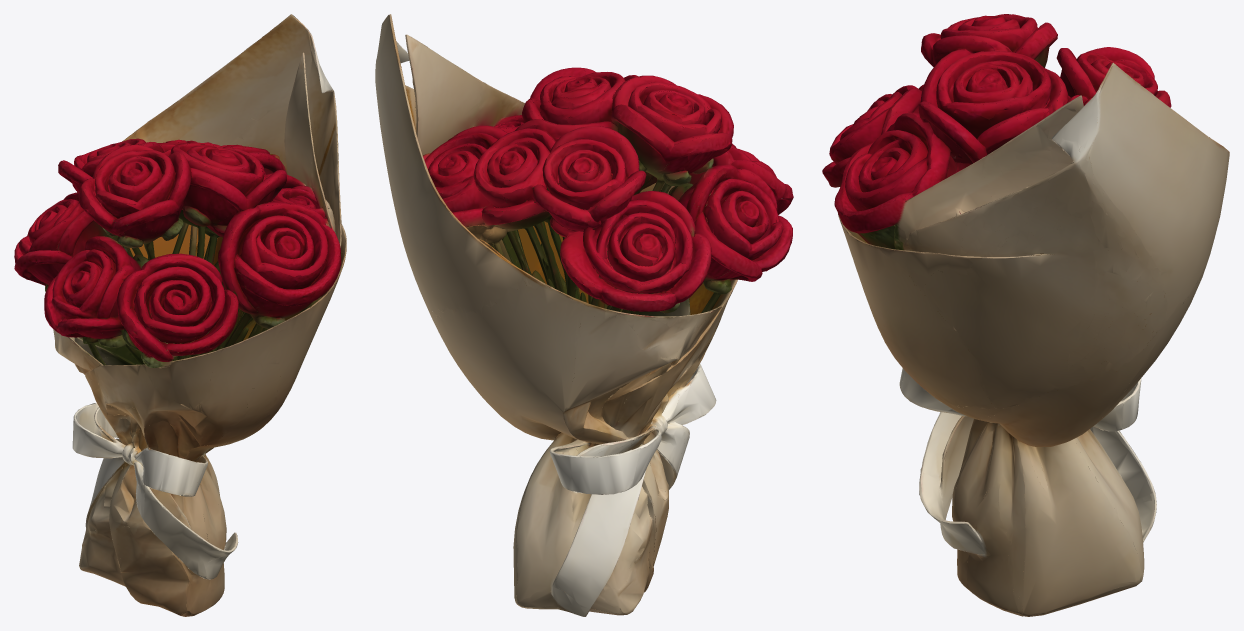
Rendered from bouquet_optimized.glb.
The picture shows the model from 3 angles, left to right: view 1: azimuth 30°, elevation 25°; view 2: azimuth 150°, elevation 25°; view 3: azimuth 270°, elevation 25°; orthographic projection. The views are drawn at different scales.
Visible parts, largest first — view 1: node_0; view 2: node_0; view 3: node_0.
Part boxes in pixels (x1,y1,x2,y2): node_0: (14,14,346,616); node_0: (375,14,793,616); node_0: (822,14,1229,616).
Bounding box in the file's own units: 0.6656 × 1.02 × 0.6103.
Materials: 1 (1 with a texture image).
